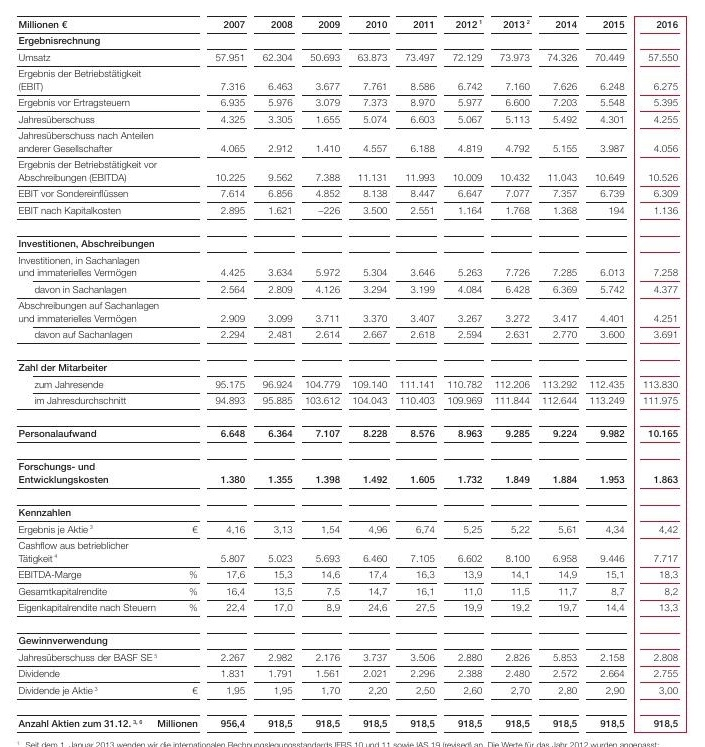table: (0, 0, 705, 747)
